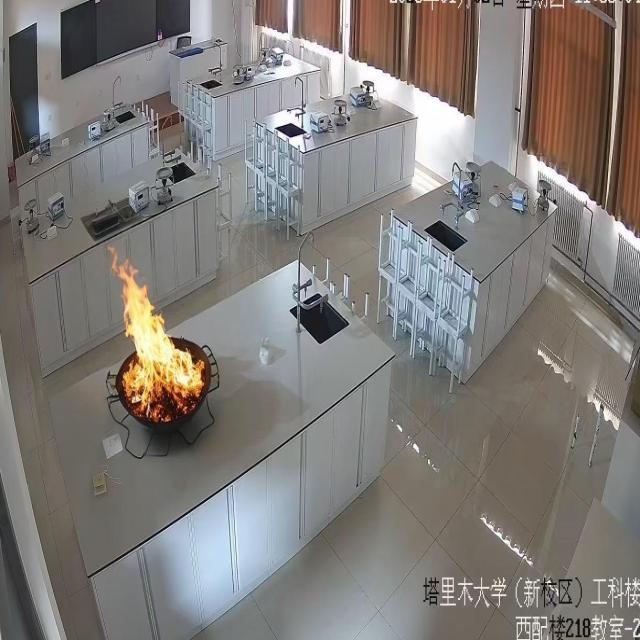smoke: (110, 246, 203, 409)
